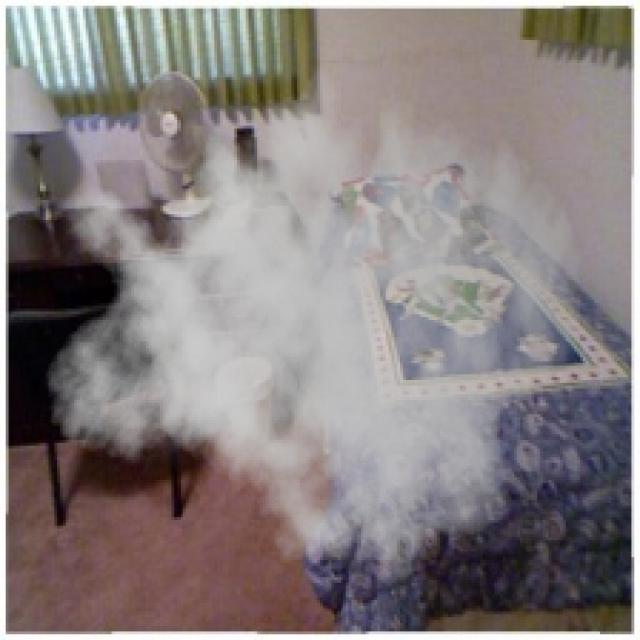smoke: (43, 37, 583, 597)
